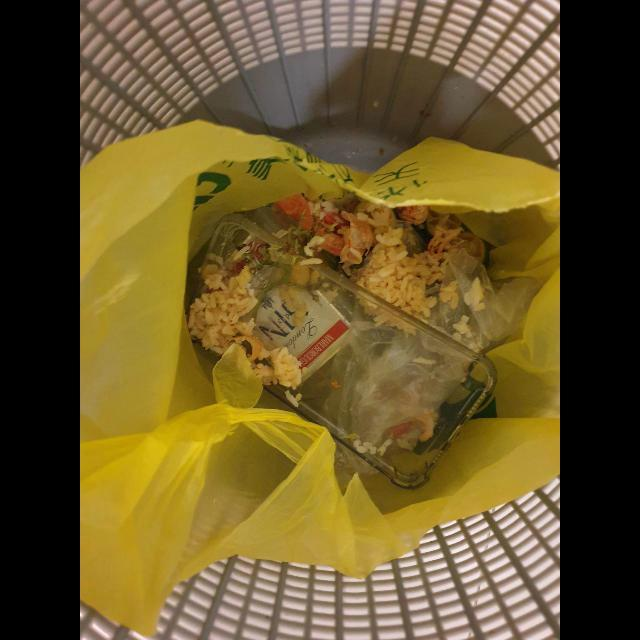left_over_food: (275, 192, 464, 321), (189, 266, 303, 386)
